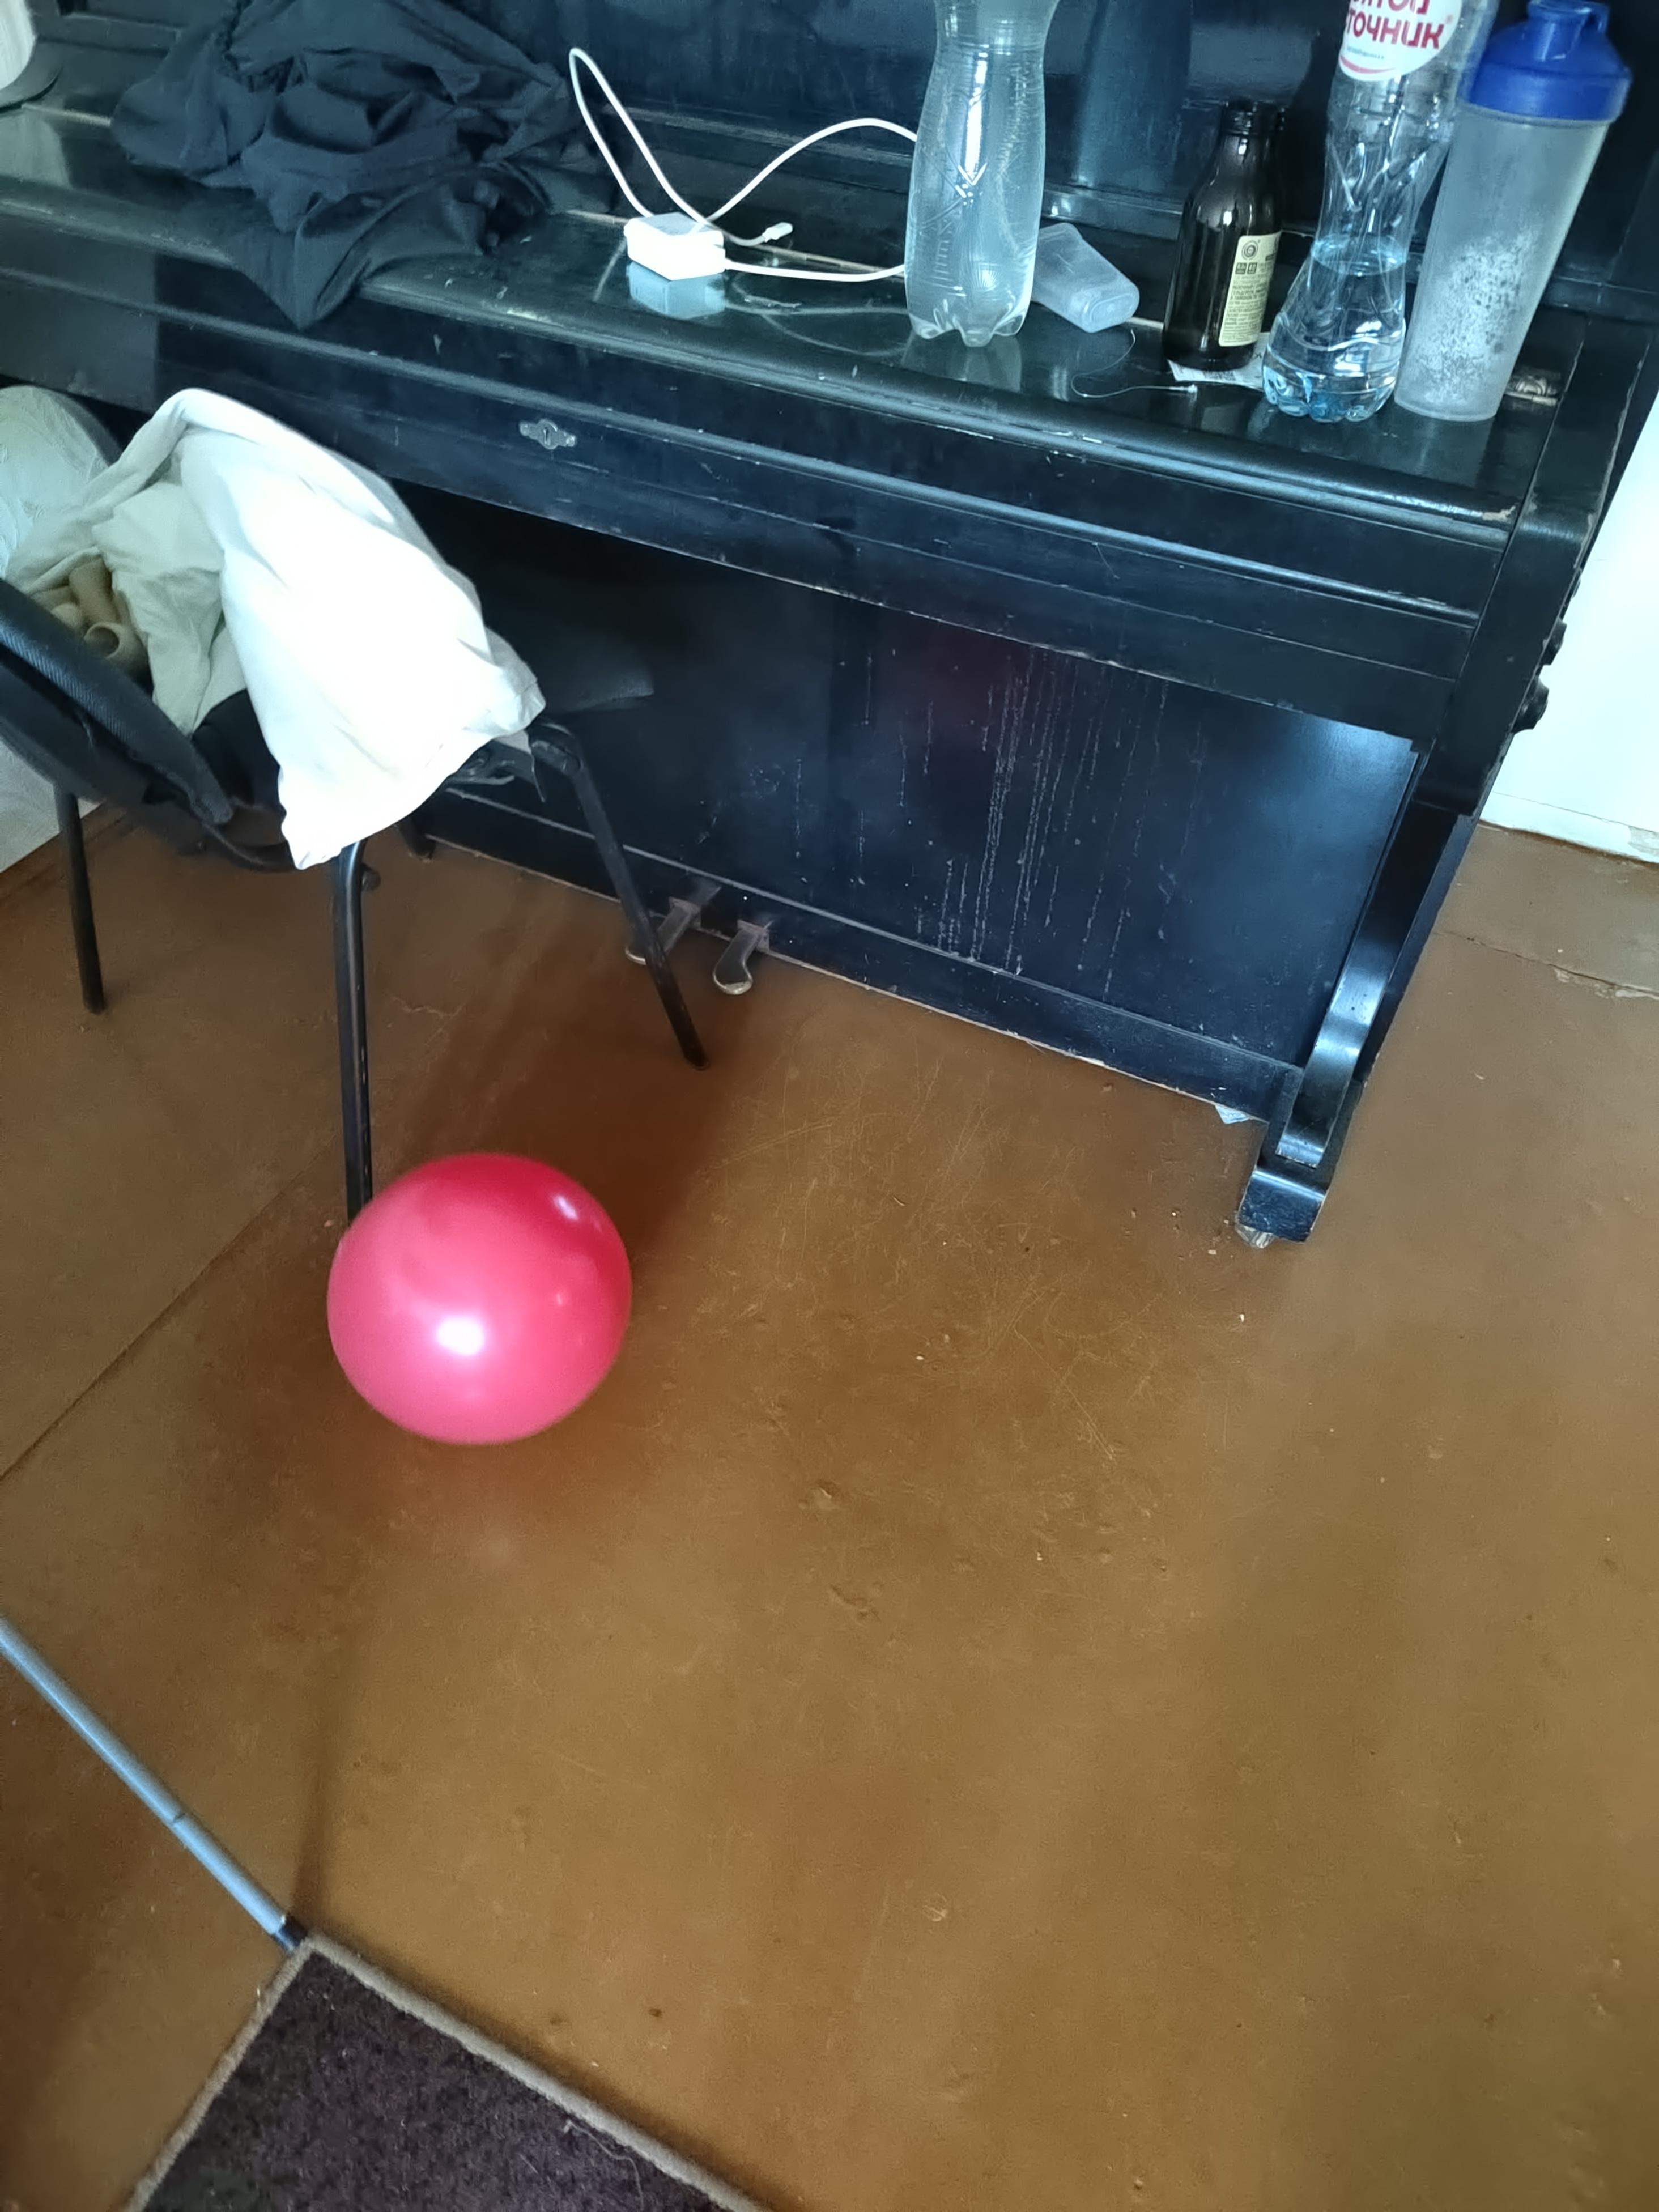red: (307, 1141, 645, 1475)
